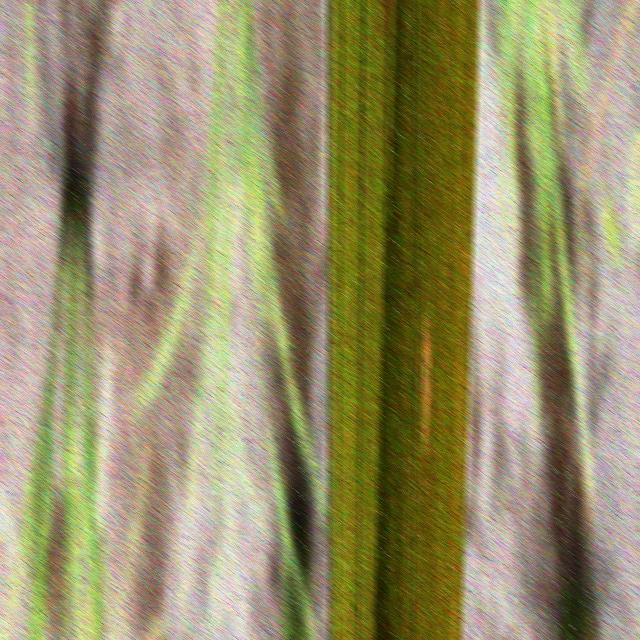BLS: (422, 315, 430, 455)
